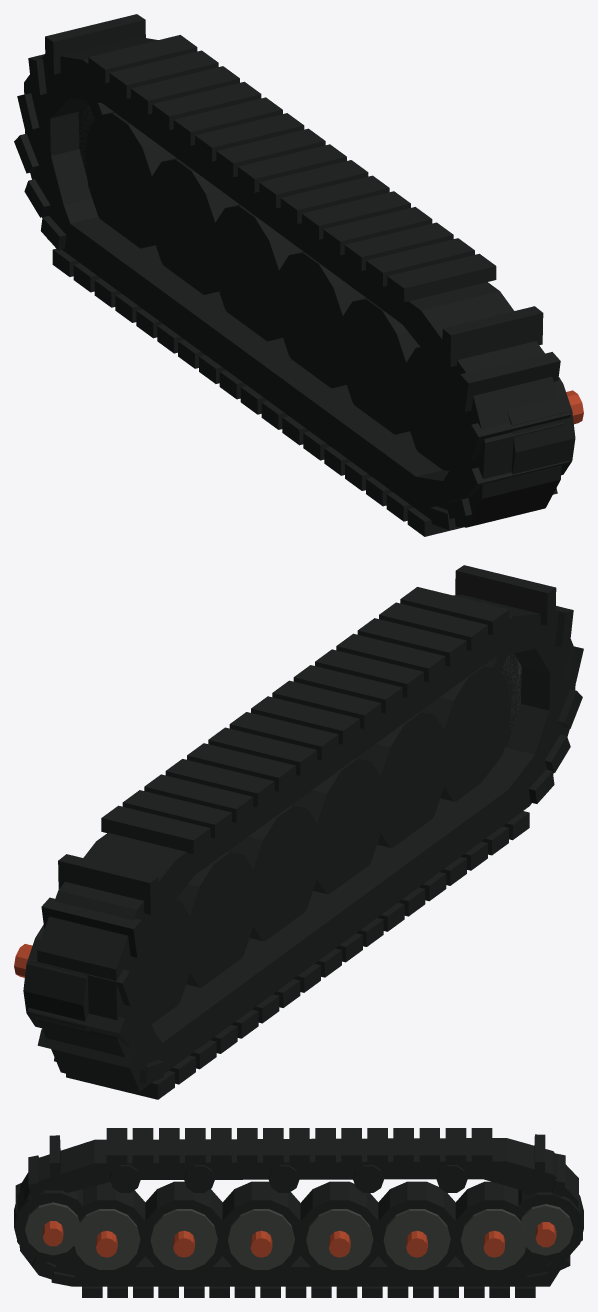
File: Bastion_MT12_RightTrack.obj
The picture shows the model from 3 angles, top to bottom: view 1: azimuth 30°, elevation 25°; view 2: azimuth 150°, elevation 25°; view 3: azimuth 270°, elevation 25°; orthographic projection. The views are drawn at different scales.
Parts seen in each view (by area): view 1: Bastion_MT12_RightTrack; view 2: Bastion_MT12_RightTrack; view 3: Bastion_MT12_RightTrack.
Part boxes in pixels (bbox=[...]): Bastion_MT12_RightTrack: bbox=[14, 14, 583, 536]; Bastion_MT12_RightTrack: bbox=[14, 565, 583, 1099]; Bastion_MT12_RightTrack: bbox=[14, 1128, 583, 1297].
Size of the model in its own units: 0.875 by 1.52 by 5.53.
Materials: 1 (1 with a texture image).
